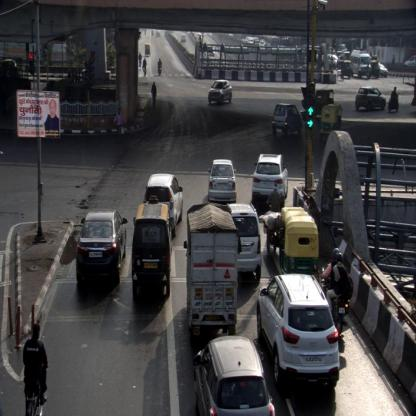bus: (351, 49, 372, 79)
car: (258, 276, 339, 391), (193, 334, 278, 416), (76, 209, 127, 286), (132, 198, 170, 299), (225, 202, 263, 282), (144, 173, 184, 238), (252, 153, 288, 205), (208, 158, 236, 204), (272, 103, 303, 138), (355, 86, 386, 112), (209, 81, 233, 105)
motorcycle: (321, 248, 349, 334), (266, 186, 279, 257), (388, 86, 402, 114), (157, 58, 162, 75)
truck: (184, 201, 238, 334)
